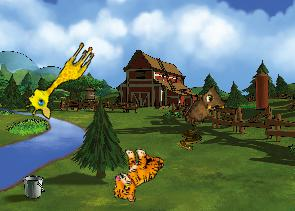giraffe: (21, 33, 98, 124)
owl: (182, 81, 231, 135)
tiger: (110, 144, 165, 206)
